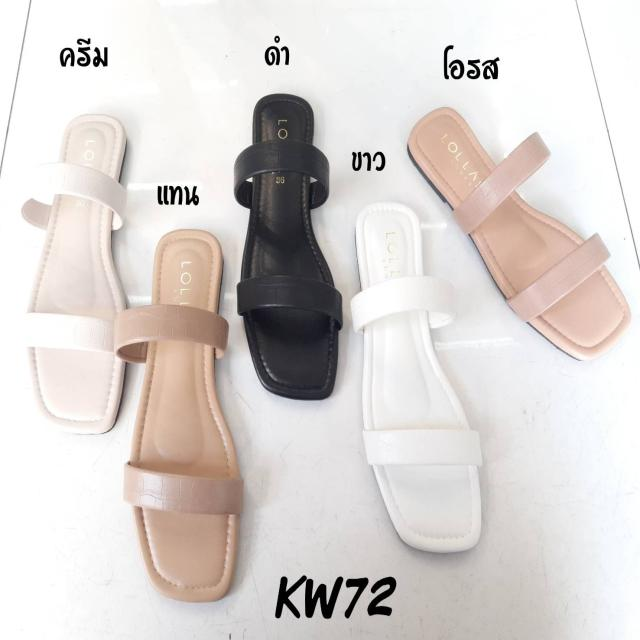black: (226, 97, 348, 405)
cream: (35, 113, 130, 428)
orot: (406, 103, 632, 367)
tan: (130, 228, 247, 598)
white: (348, 205, 481, 551)
